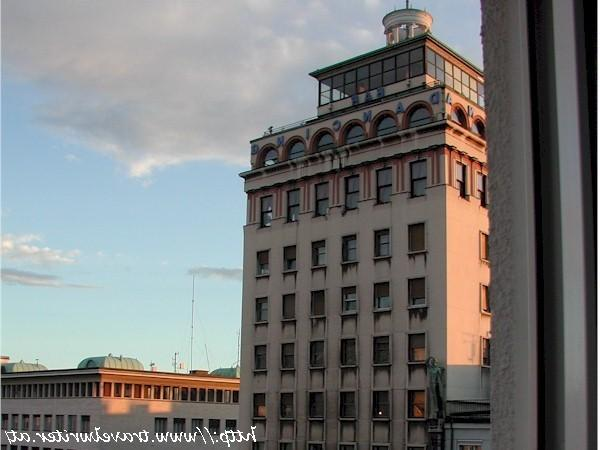building: (238, 0, 490, 450), (1, 354, 239, 450)
